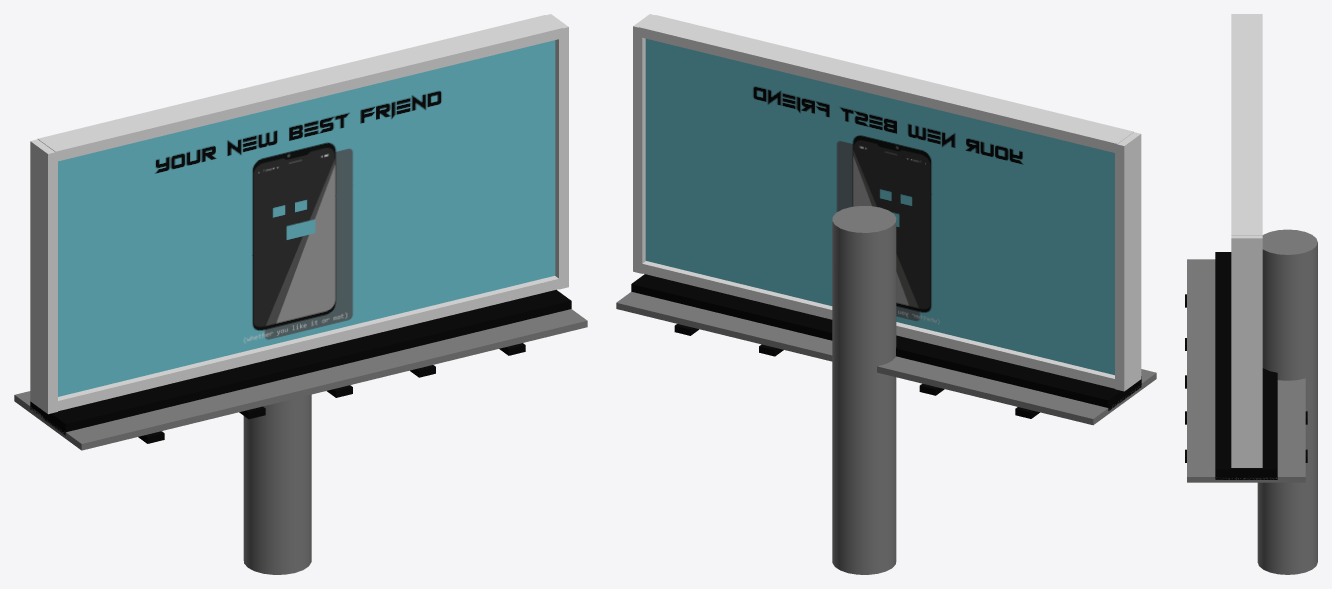
File: Billboard.fbx
3 views of the same model, side by side, from view 1: azimuth 30°, elevation 25°; view 2: azimuth 150°, elevation 25°; view 3: azimuth 270°, elevation 25° (orthographic). The views are drawn at different scales.
Parts seen in each view (by area): view 1: pCube2, pCube12, pCube3, pCube9, pCylinder1, pCube13, pCube11, pCube10; view 2: pCube2, pCylinder1, pCube12, pCube9, pCube3, pCube11, pCube13, pCube10; view 3: pCylinder1, pCube9, pCube10, pCube12, pCube3.
Boxes of the visible parts, x1,y1,x2,y2 form: pCube2: (58,40,555,396); pCube12: (38,15,562,161); pCube3: (30,289,571,435); pCube9: (14,309,587,450); pCylinder1: (243,394,311,574); pCube13: (56,276,562,411); pCube11: (30,139,57,414); pCube10: (546,14,568,289); pCube2: (645,38,1114,375); pCylinder1: (832,206,896,574); pCube12: (638,15,1133,153); pCube9: (616,291,1156,425); pCube3: (631,274,1141,410); pCube11: (1115,132,1141,391); pCube13: (639,261,1117,388); pCube10: (633,14,654,273); pCylinder1: (1257,229,1317,574); pCube9: (1187,259,1305,482); pCube10: (1231,235,1262,467); pCube12: (1231,16,1262,235); pCube3: (1215,252,1277,479).
Bounding box in the file's own units: 12.47 × 11.31 × 3.12.
